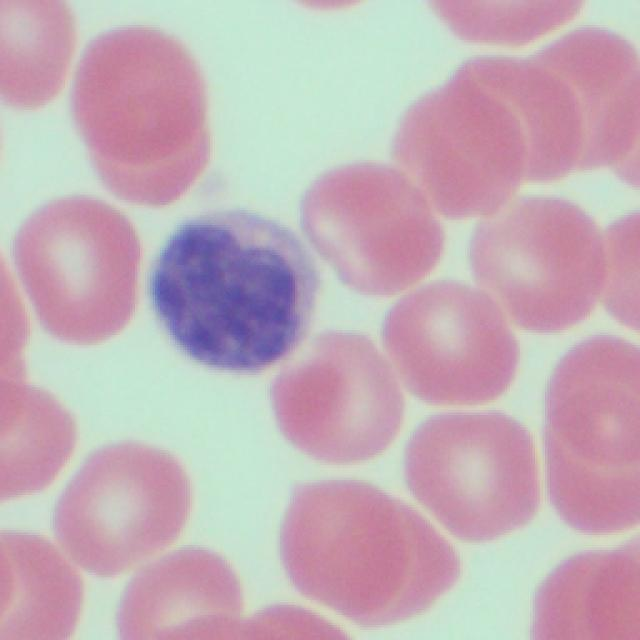RBC: (276, 478, 461, 628), (73, 11, 211, 210), (388, 50, 528, 226), (531, 333, 637, 540), (13, 193, 142, 353), (54, 434, 186, 584), (304, 160, 438, 307), (475, 192, 613, 334), (403, 406, 538, 546), (269, 335, 401, 469), (376, 280, 512, 410), (524, 543, 638, 639), (0, 514, 72, 637), (0, 0, 75, 112)
WBC: (153, 200, 323, 394)
